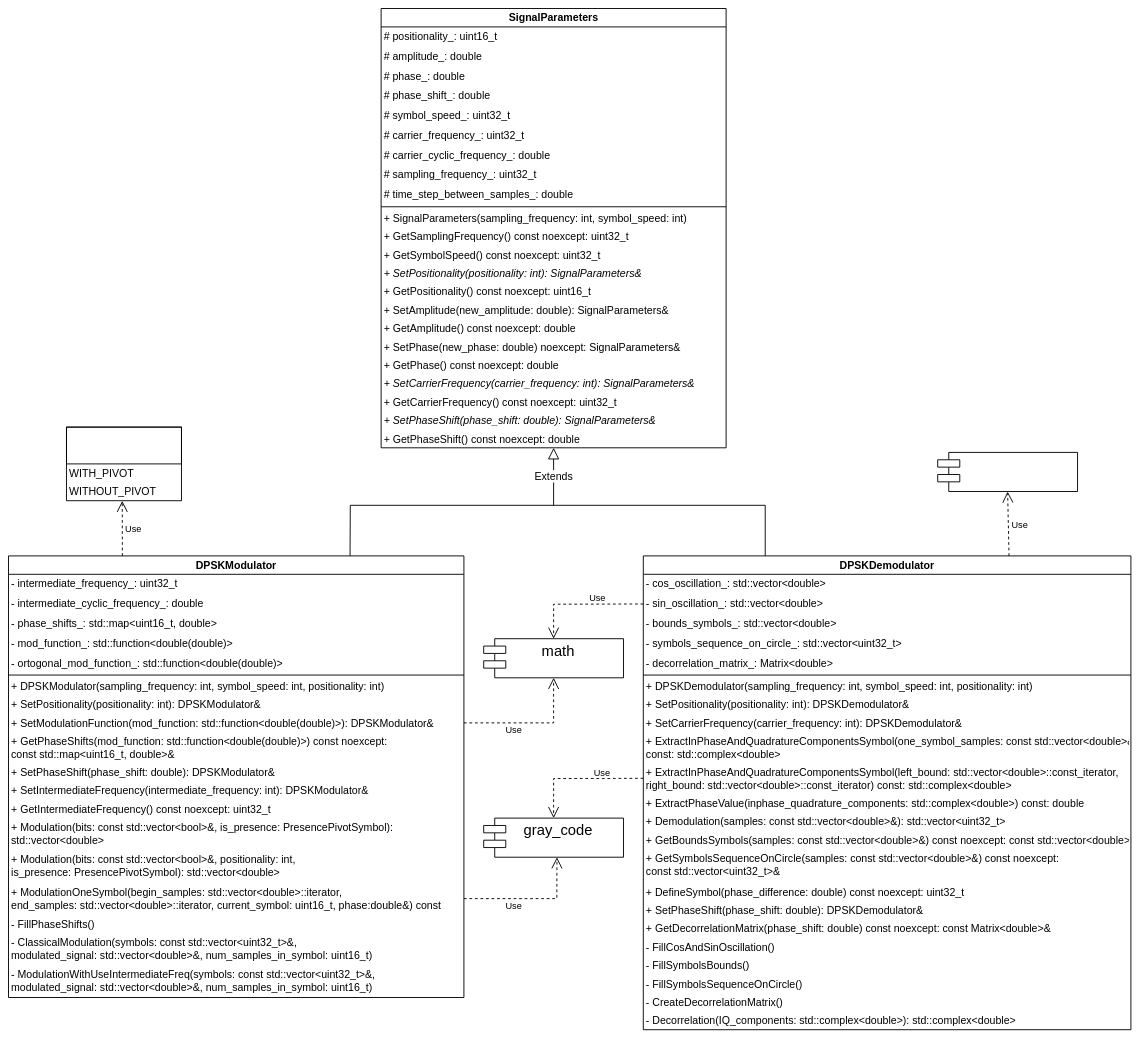
Some shapes in this 1145 by 1039 pixel diagram are drawn without their labels. Each missing label, with the centre of its shape:
"Matrix" goes at point 1007,472.
"«enumeration» PresencePivotSymbol" goes at point 124,445.
